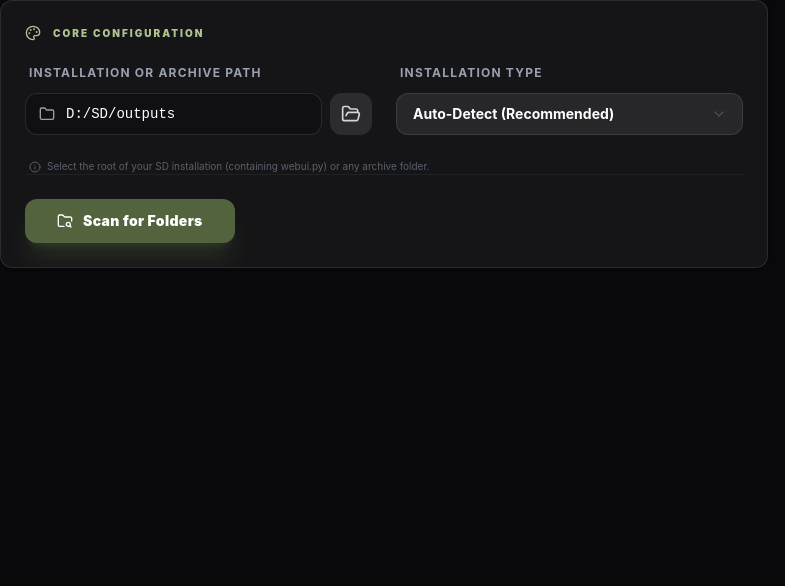
it: A1111Tab discovery warnings › keeps the non-standard folder switch keyboard-focusable and stateful
Click the button "Scan for Folders" at (130, 221), box [25, 199, 235, 243]
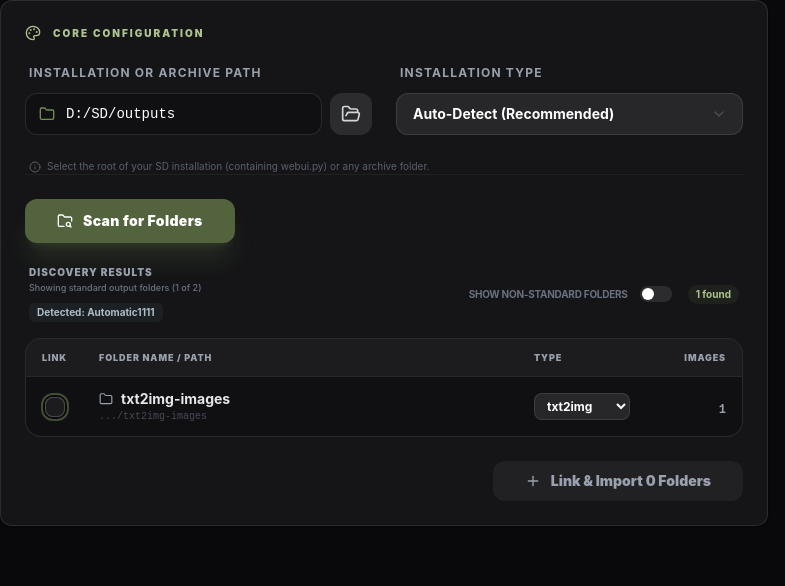
Click the switch labelled "Show non-standard folders" at (570, 294), box [469, 286, 672, 302]
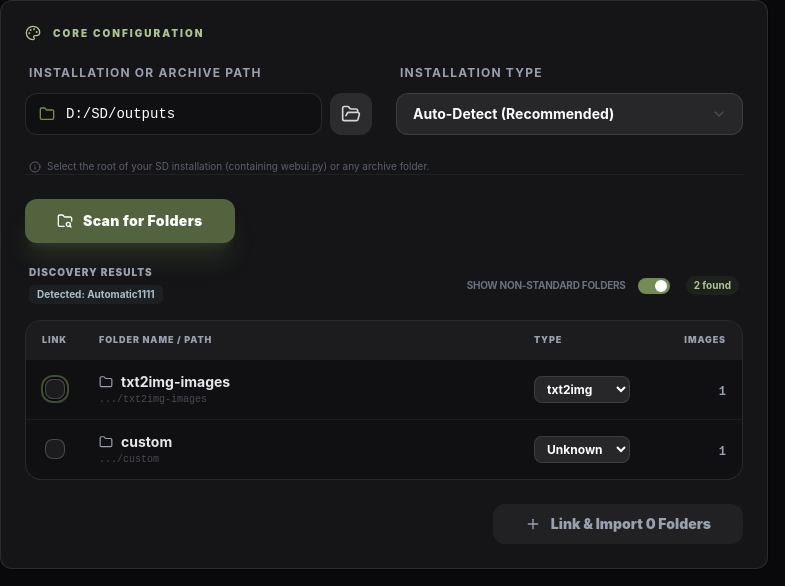
Result: the text "custom" is shown at [99, 432, 172, 450]
